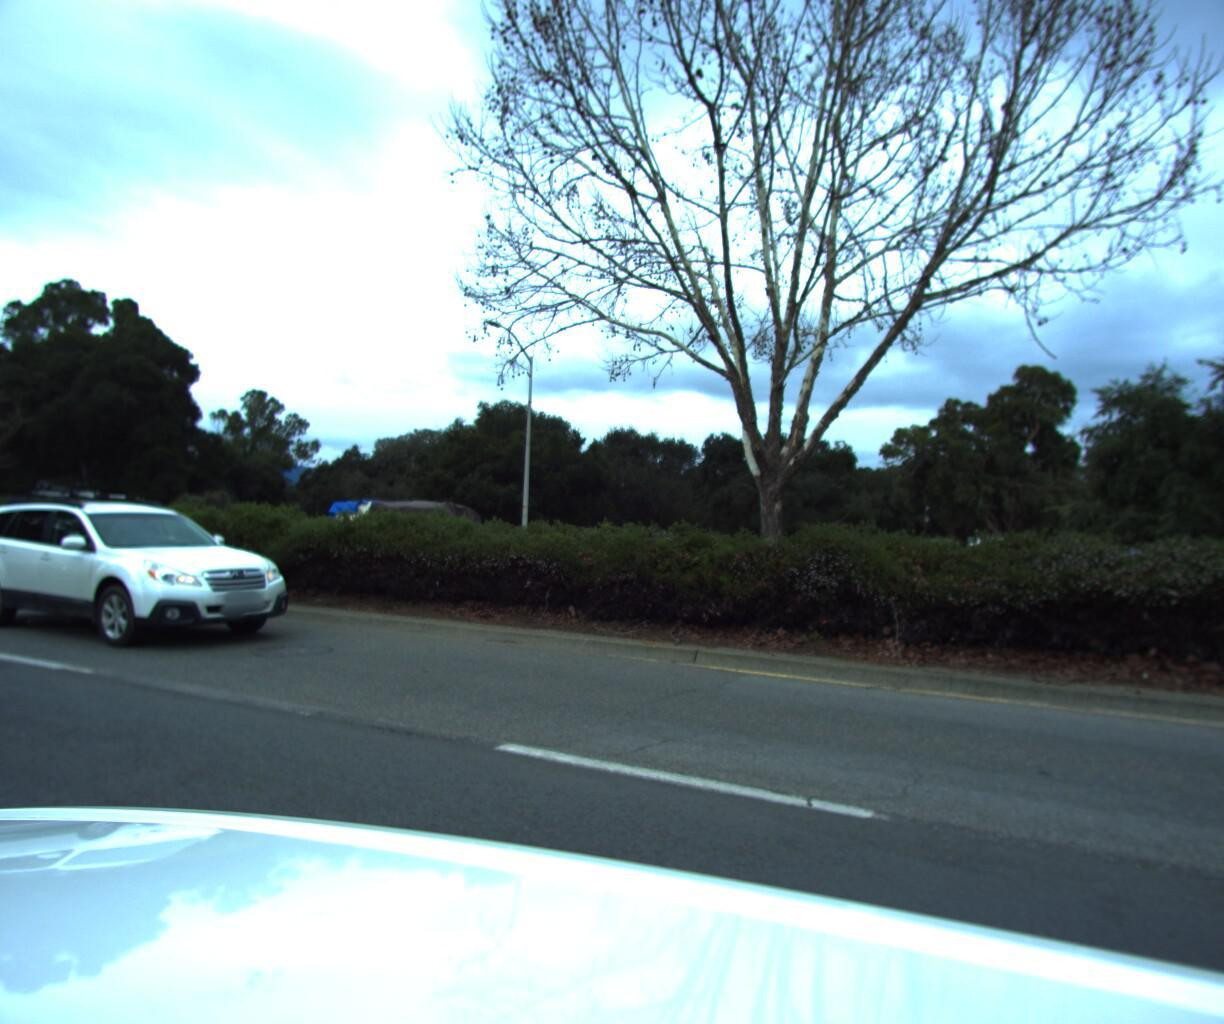car: (0, 479, 307, 659)
other_vehicle: (310, 490, 487, 579)
